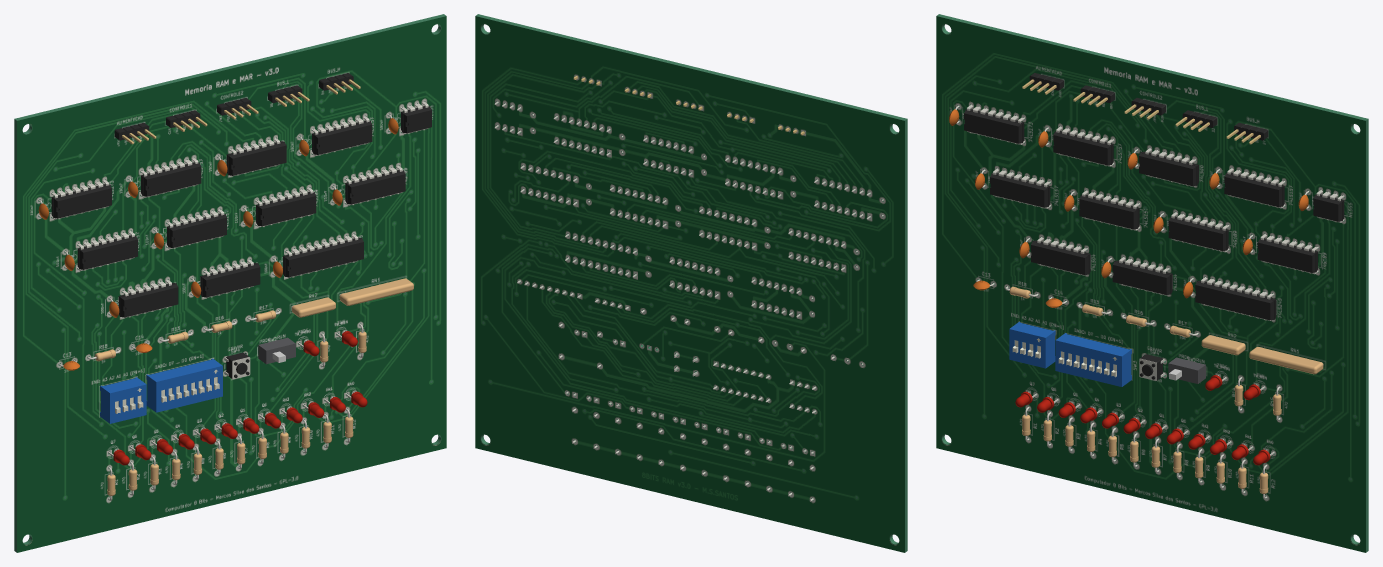
File: ram-mar-memoria.glb
3 views of the same model, side by side, from view 1: azimuth 30°, elevation 25°; view 2: azimuth 150°, elevation 25°; view 3: azimuth 330°, elevation 25° (orthographic).
Visible parts, largest first — view 1: superficie_topo, =>[0:1:1:28], =>[0:1:1:13]_24de68, =>[0:1:1:5]_c0a7ff, =>[0:1:1:17]_13e70b, =>[0:1:1:3]_2_5cfd56, =>[0:1:1:9]_5_75da4c, =>[0:1:1:9]_2_e2c452, =>[0:1:1:9]_1_5c216a, =>[0:1:1:9]_c0f256, =>[0:1:1:9]_3_b74b2f, =>[0:1:1:9]_6_9f132d (+8 smaller); view 2: superficie_fundo, =>[0:1:1:28]; view 3: superficie_topo, =>[0:1:1:28], =>[0:1:1:13]_24de68, =>[0:1:1:5]_c0a7ff, =>[0:1:1:17]_13e70b, =>[0:1:1:9]_2_e2c452, =>[0:1:1:9]_5_75da4c, =>[0:1:1:9]_1_5c216a, =>[0:1:1:9]_6_9f132d, =>[0:1:1:9]_3_b74b2f, =>[0:1:1:9]_4_75512e, =>[0:1:1:3]_1_282ea1 (+8 smaller).
Part boxes in pixels (bbox=[...]): superficie_topo: bbox=[17, 16, 446, 552]; =>[0:1:1:28]: bbox=[14, 14, 445, 552]; =>[0:1:1:13]_24de68: bbox=[146, 358, 222, 412]; =>[0:1:1:5]_c0a7ff: bbox=[283, 237, 363, 277]; =>[0:1:1:17]_13e70b: bbox=[100, 377, 146, 423]; =>[0:1:1:3]_2_5cfd56: bbox=[226, 141, 286, 175]; =>[0:1:1:9]_5_75da4c: bbox=[256, 192, 316, 226]; =>[0:1:1:9]_2_e2c452: bbox=[77, 235, 137, 269]; =>[0:1:1:9]_1_5c216a: bbox=[51, 184, 111, 218]; =>[0:1:1:9]_c0f256: bbox=[345, 170, 405, 204]; =>[0:1:1:9]_3_b74b2f: bbox=[141, 162, 201, 196]; =>[0:1:1:9]_6_9f132d: bbox=[312, 120, 372, 154]; superficie_fundo: bbox=[475, 16, 904, 552]; =>[0:1:1:28]: bbox=[476, 14, 907, 552]; superficie_topo: bbox=[936, 16, 1365, 552]; =>[0:1:1:28]: bbox=[937, 14, 1368, 552]; =>[0:1:1:13]_24de68: bbox=[1055, 333, 1131, 386]; =>[0:1:1:5]_c0a7ff: bbox=[1195, 280, 1276, 320]; =>[0:1:1:17]_13e70b: bbox=[1009, 321, 1055, 368]; =>[0:1:1:9]_2_e2c452: bbox=[990, 173, 1050, 207]; =>[0:1:1:9]_5_75da4c: bbox=[1168, 216, 1228, 250]; =>[0:1:1:9]_1_5c216a: bbox=[964, 109, 1024, 143]; =>[0:1:1:9]_6_9f132d: bbox=[1224, 172, 1284, 207]; =>[0:1:1:9]_3_b74b2f: bbox=[1053, 131, 1113, 165]; =>[0:1:1:9]_4_75512e: bbox=[1079, 195, 1139, 229]; =>[0:1:1:3]_1_282ea1: bbox=[1112, 260, 1172, 294].
Size of the model in its own units: 0.1451 by 0.1395 by 0.012.
Materials: 10 (2 with a texture image).
